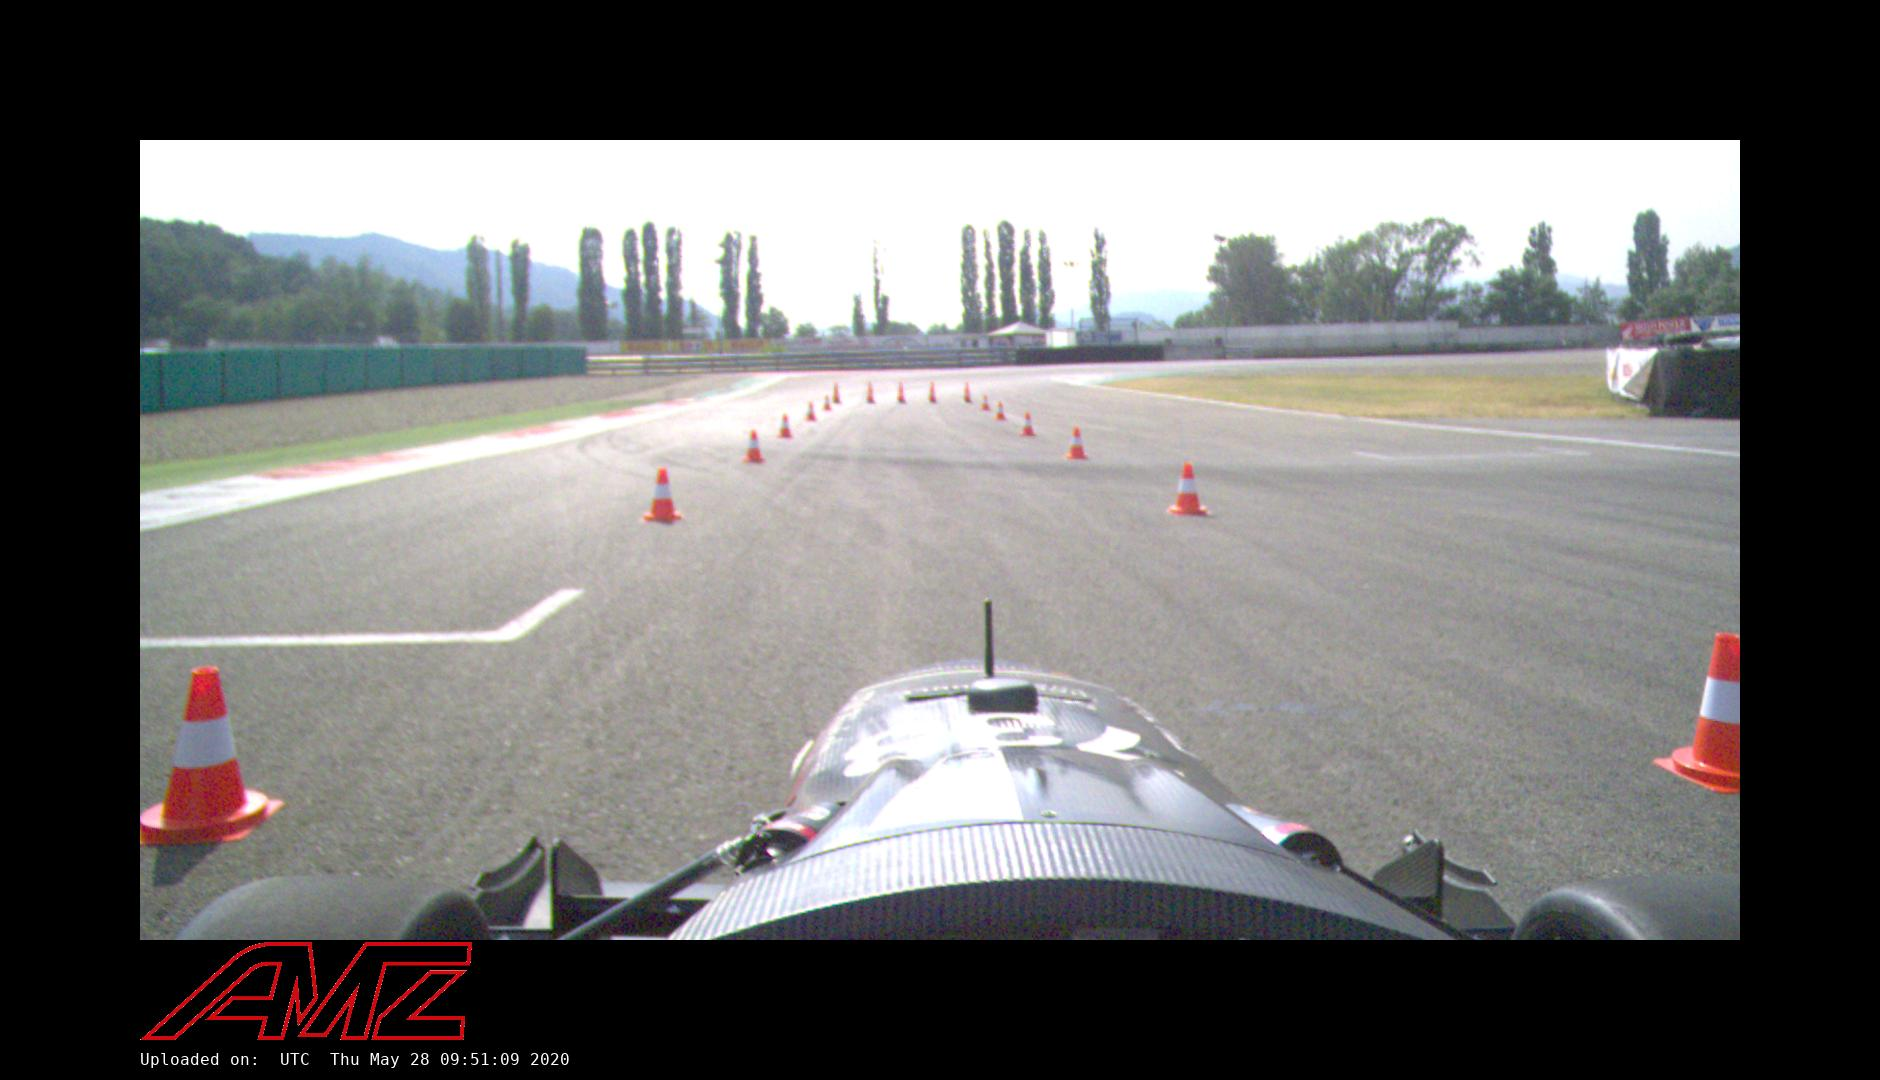large_orange_cone: (925, 381, 939, 404), (959, 382, 974, 403), (895, 382, 908, 404), (830, 381, 842, 404), (864, 381, 875, 403)
orange_cone: (139, 668, 285, 844), (1653, 633, 1739, 793), (638, 466, 684, 524), (1169, 462, 1212, 517), (742, 430, 766, 464), (1065, 428, 1088, 459), (773, 413, 795, 439), (1019, 412, 1037, 435), (803, 402, 819, 422), (993, 400, 1007, 421), (979, 395, 990, 411), (822, 394, 833, 411)
